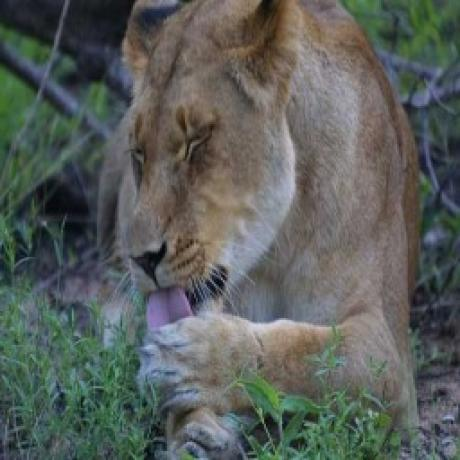Lion: (96, 3, 423, 420)
